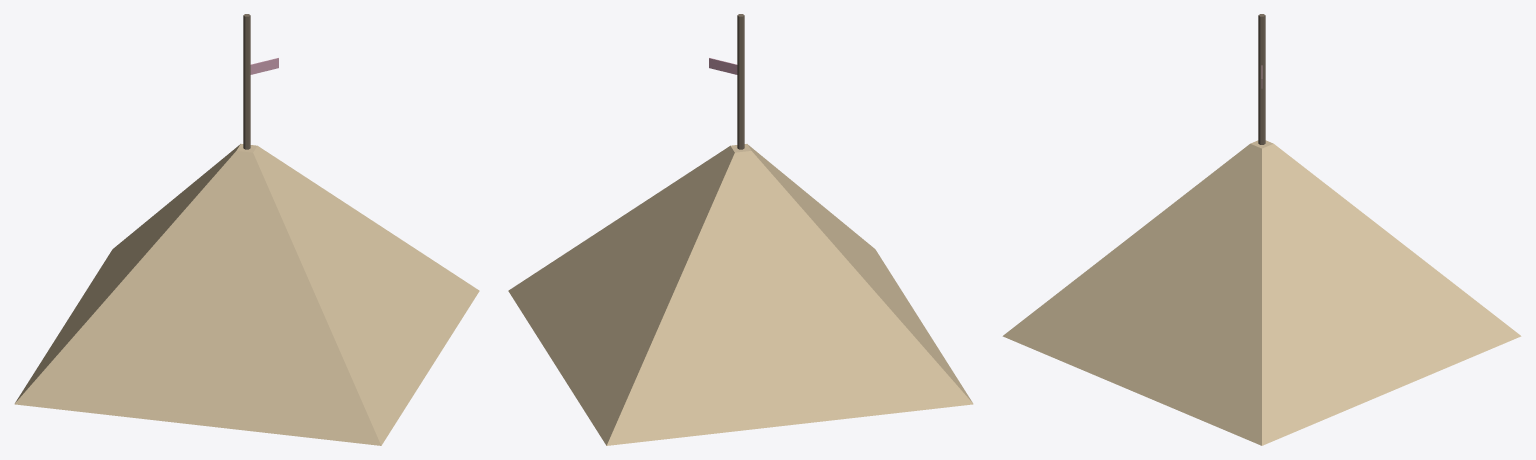
File: lqv_lowpoly_typo_glamping.glb
3 views of the same model, side by side, from view 1: azimuth 30°, elevation 25°; view 2: azimuth 150°, elevation 25°; view 3: azimuth 270°, elevation 25° (orthographic). The views are drawn at different scales.
Parts seen in each view (by area): view 1: Typo_Glamping, Typo_Glamping_pole; view 2: Typo_Glamping, Typo_Glamping_pole; view 3: Typo_Glamping, Typo_Glamping_pole.
Part boxes in pixels (<box>): Typo_Glamping: <box>14,144,479,445</box>; Typo_Glamping_pole: <box>243,14,250,149</box>; Typo_Glamping: <box>508,144,973,445</box>; Typo_Glamping_pole: <box>737,14,744,149</box>; Typo_Glamping: <box>1002,140,1521,445</box>; Typo_Glamping_pole: <box>1258,14,1265,144</box>.
Bounding box in the file's own units: 4.4 × 3 × 4.4.
